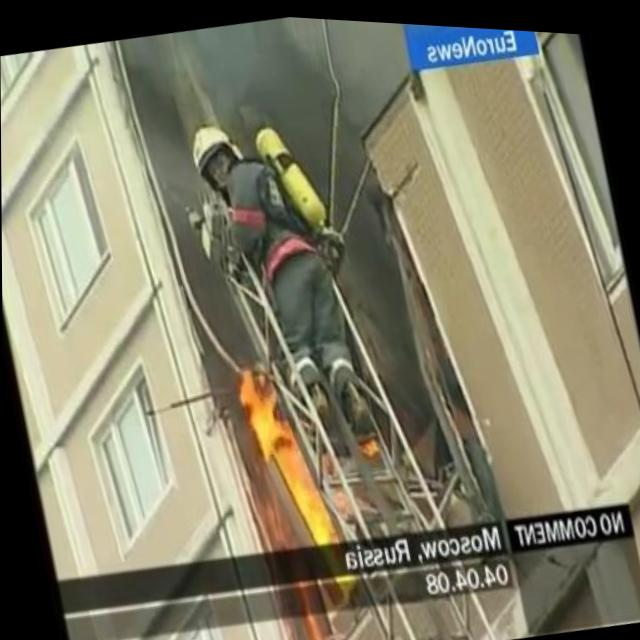fire: (229, 353, 335, 553), (359, 434, 377, 452)
